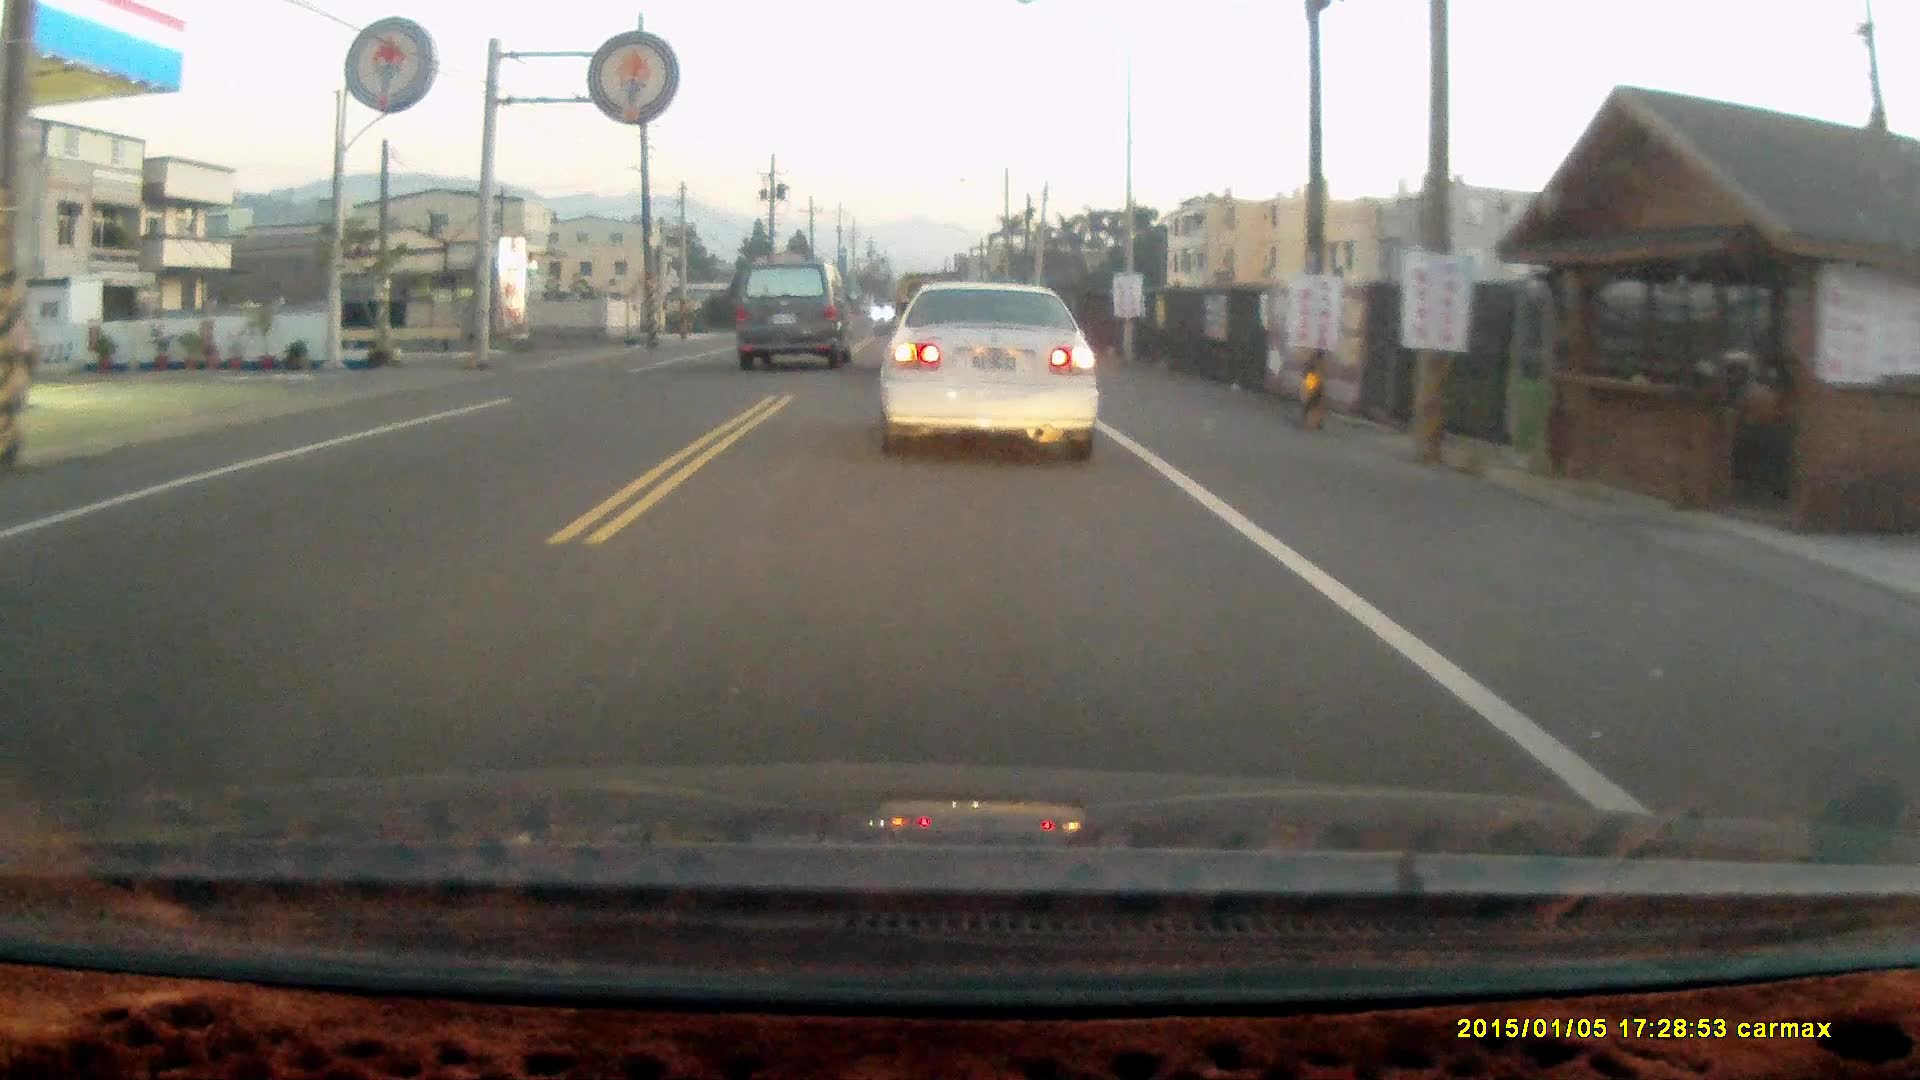pedestrian: (1715, 346, 1776, 469)
vehicle: (874, 277, 1101, 465), (728, 255, 854, 372)
